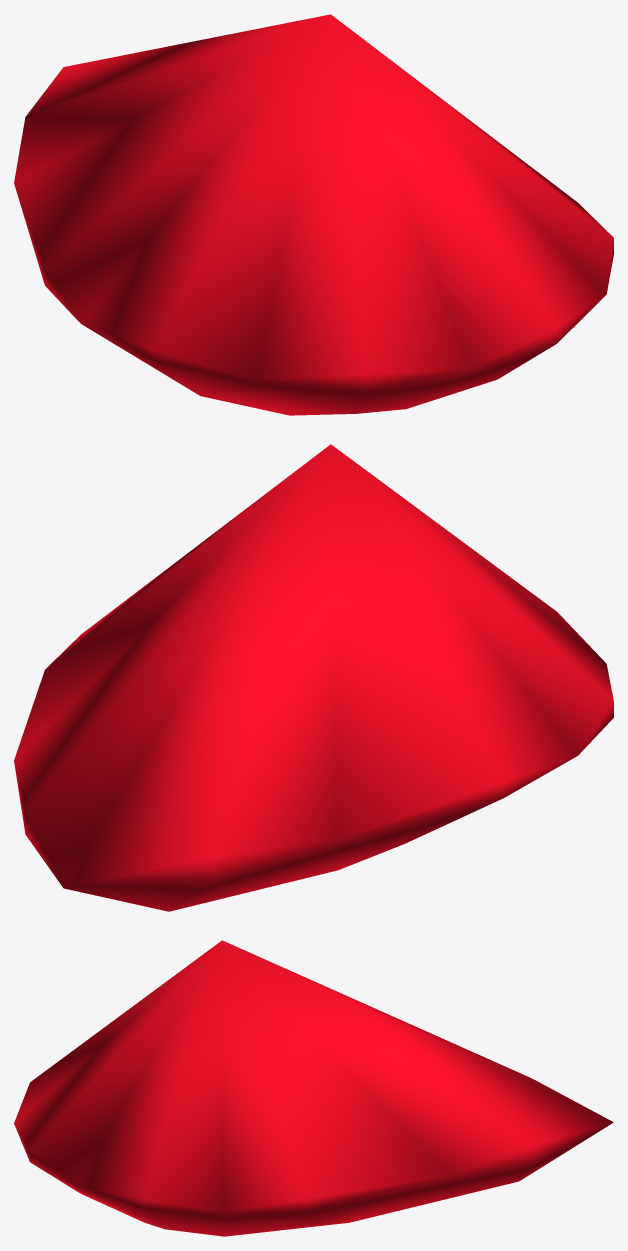
The model's file is gems1.fbx.
The picture shows the model from 3 angles, top to bottom: view 1: azimuth 30°, elevation 25°; view 2: azimuth 150°, elevation 25°; view 3: azimuth 270°, elevation 25°; orthographic projection. The views are drawn at different scales.
Visible parts, largest first — view 1: gema; view 2: gema; view 3: gema.
Boxes of the visible parts, box(x1,y1,x2,y2) form: gema: box(14, 14, 613, 415); gema: box(14, 444, 613, 911); gema: box(14, 940, 613, 1236).
Size of the model in its own units: 21.39 by 13.96 by 30.51.
